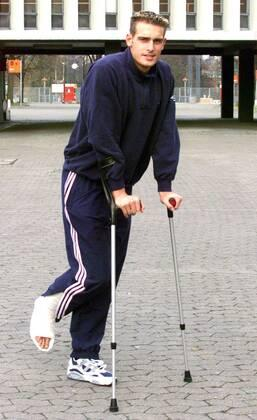crutches: (30, 11, 193, 413)
